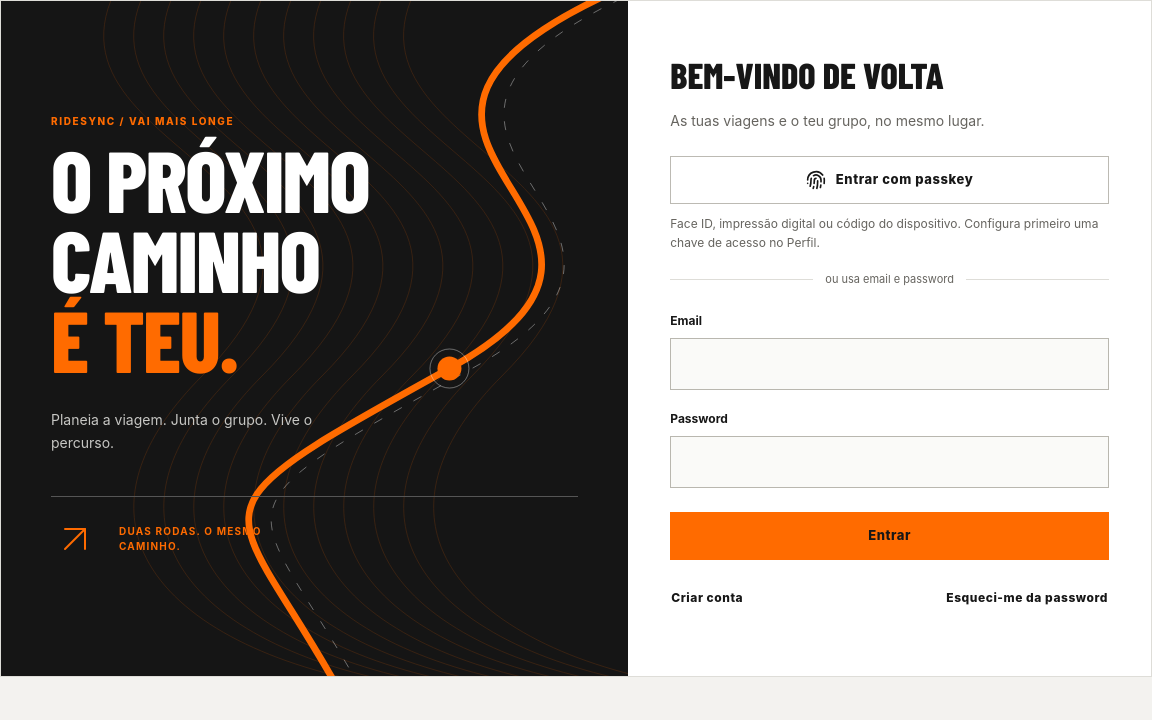
Scenario: authentication › does not reveal whether a recovery email has an account
Click the button "Esqueci-me da password" at point(1027, 598), box top-left (945, 574), bottom-right (1109, 622)
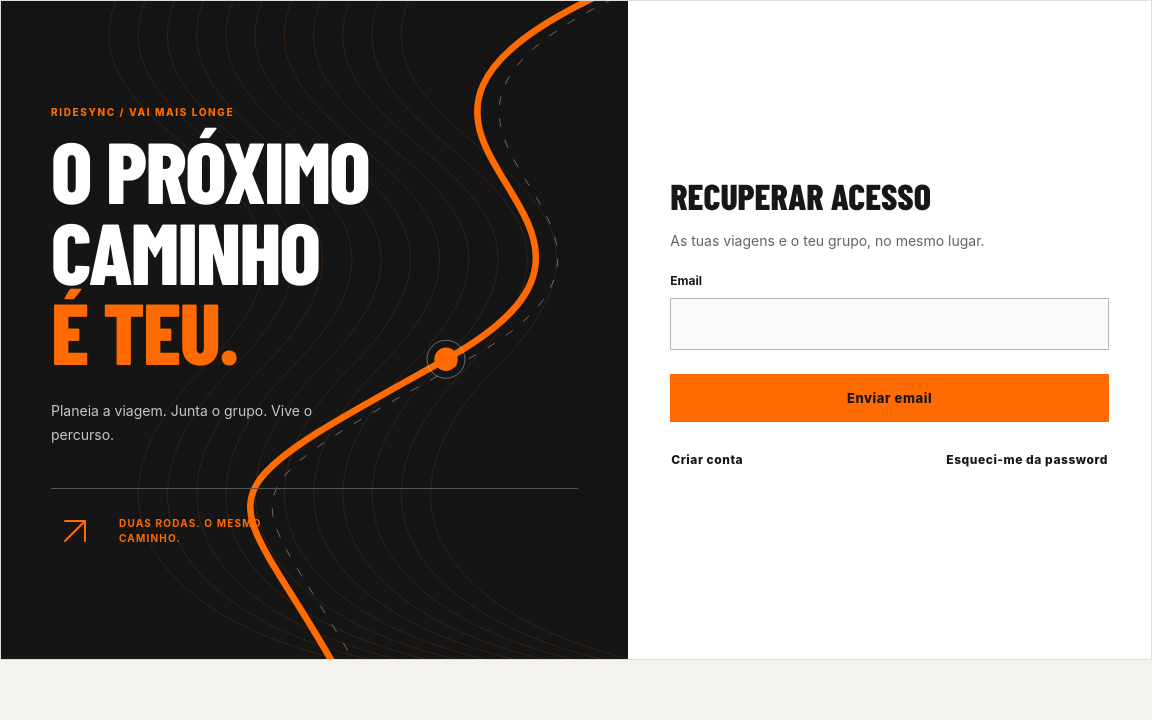
Type "rider@example.test" into the field labelled "Email" at point(890, 324), box top-left (670, 298), bottom-right (1109, 350)
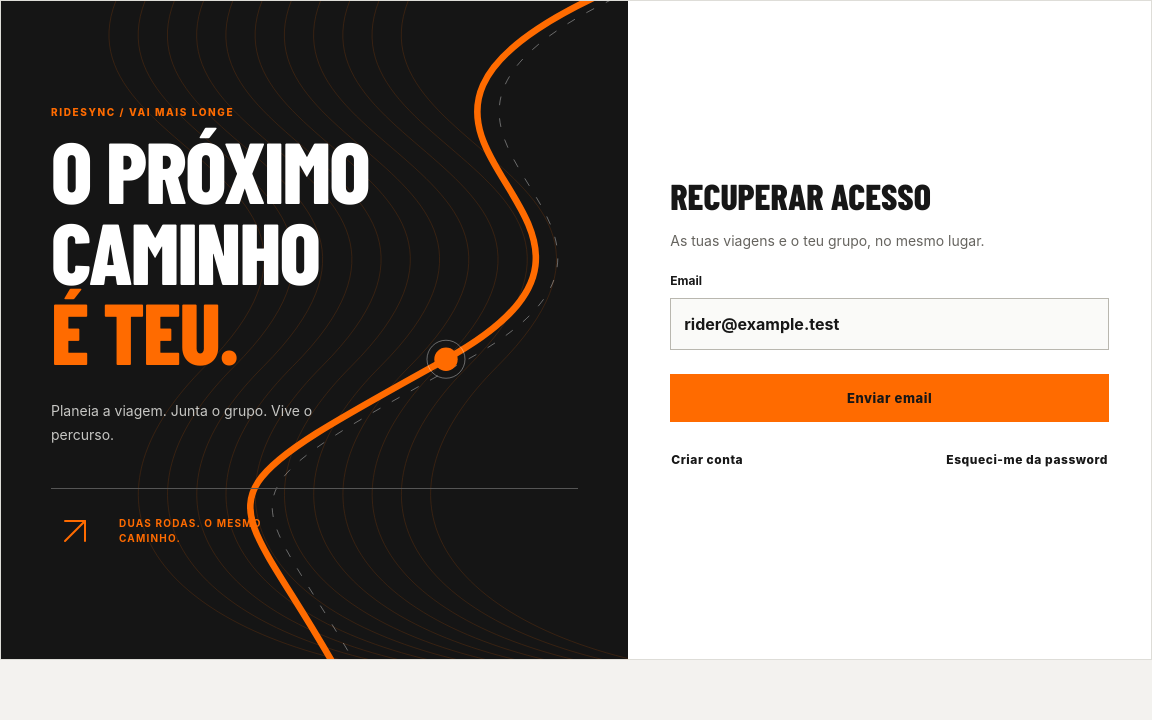
Click the button "Enviar email" at point(890, 398), box top-left (670, 374), bottom-right (1109, 422)
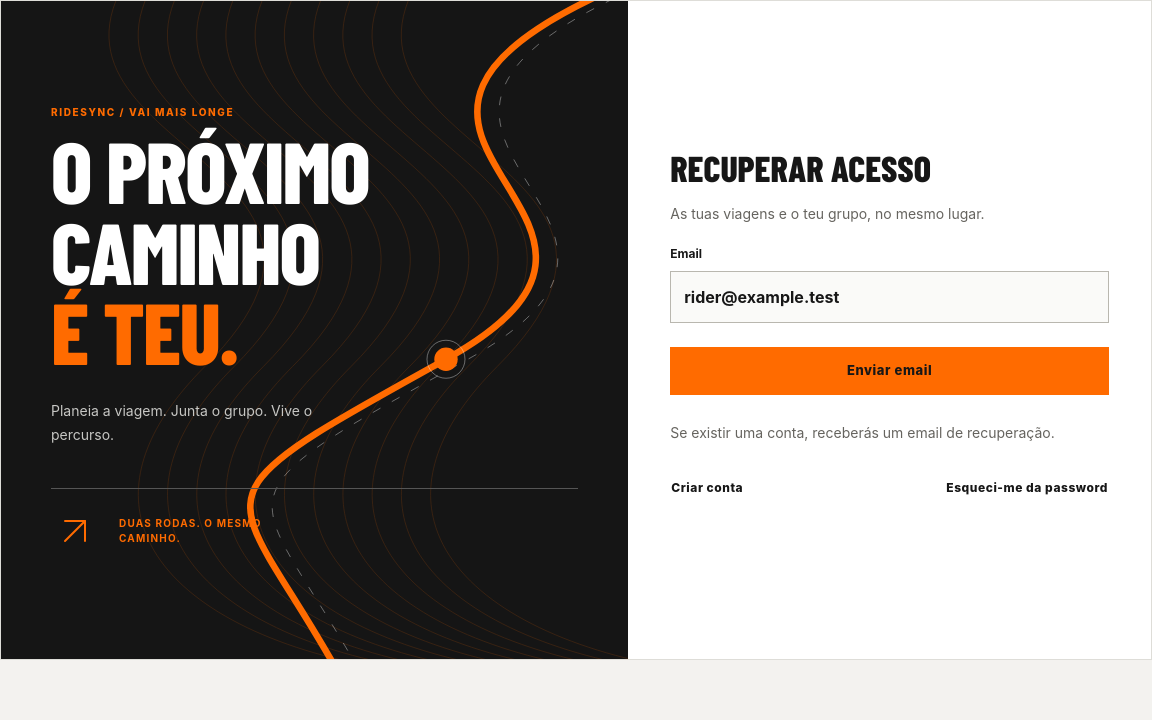
Result: the message shows "Se existir uma conta" at top-left (670, 424), bottom-right (1055, 441)
